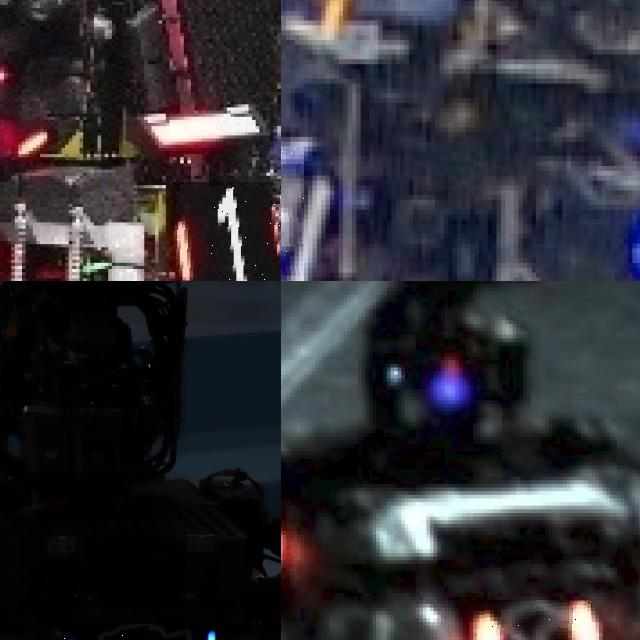R1: (173, 182, 281, 281)
Rs: (477, 600, 592, 640)
